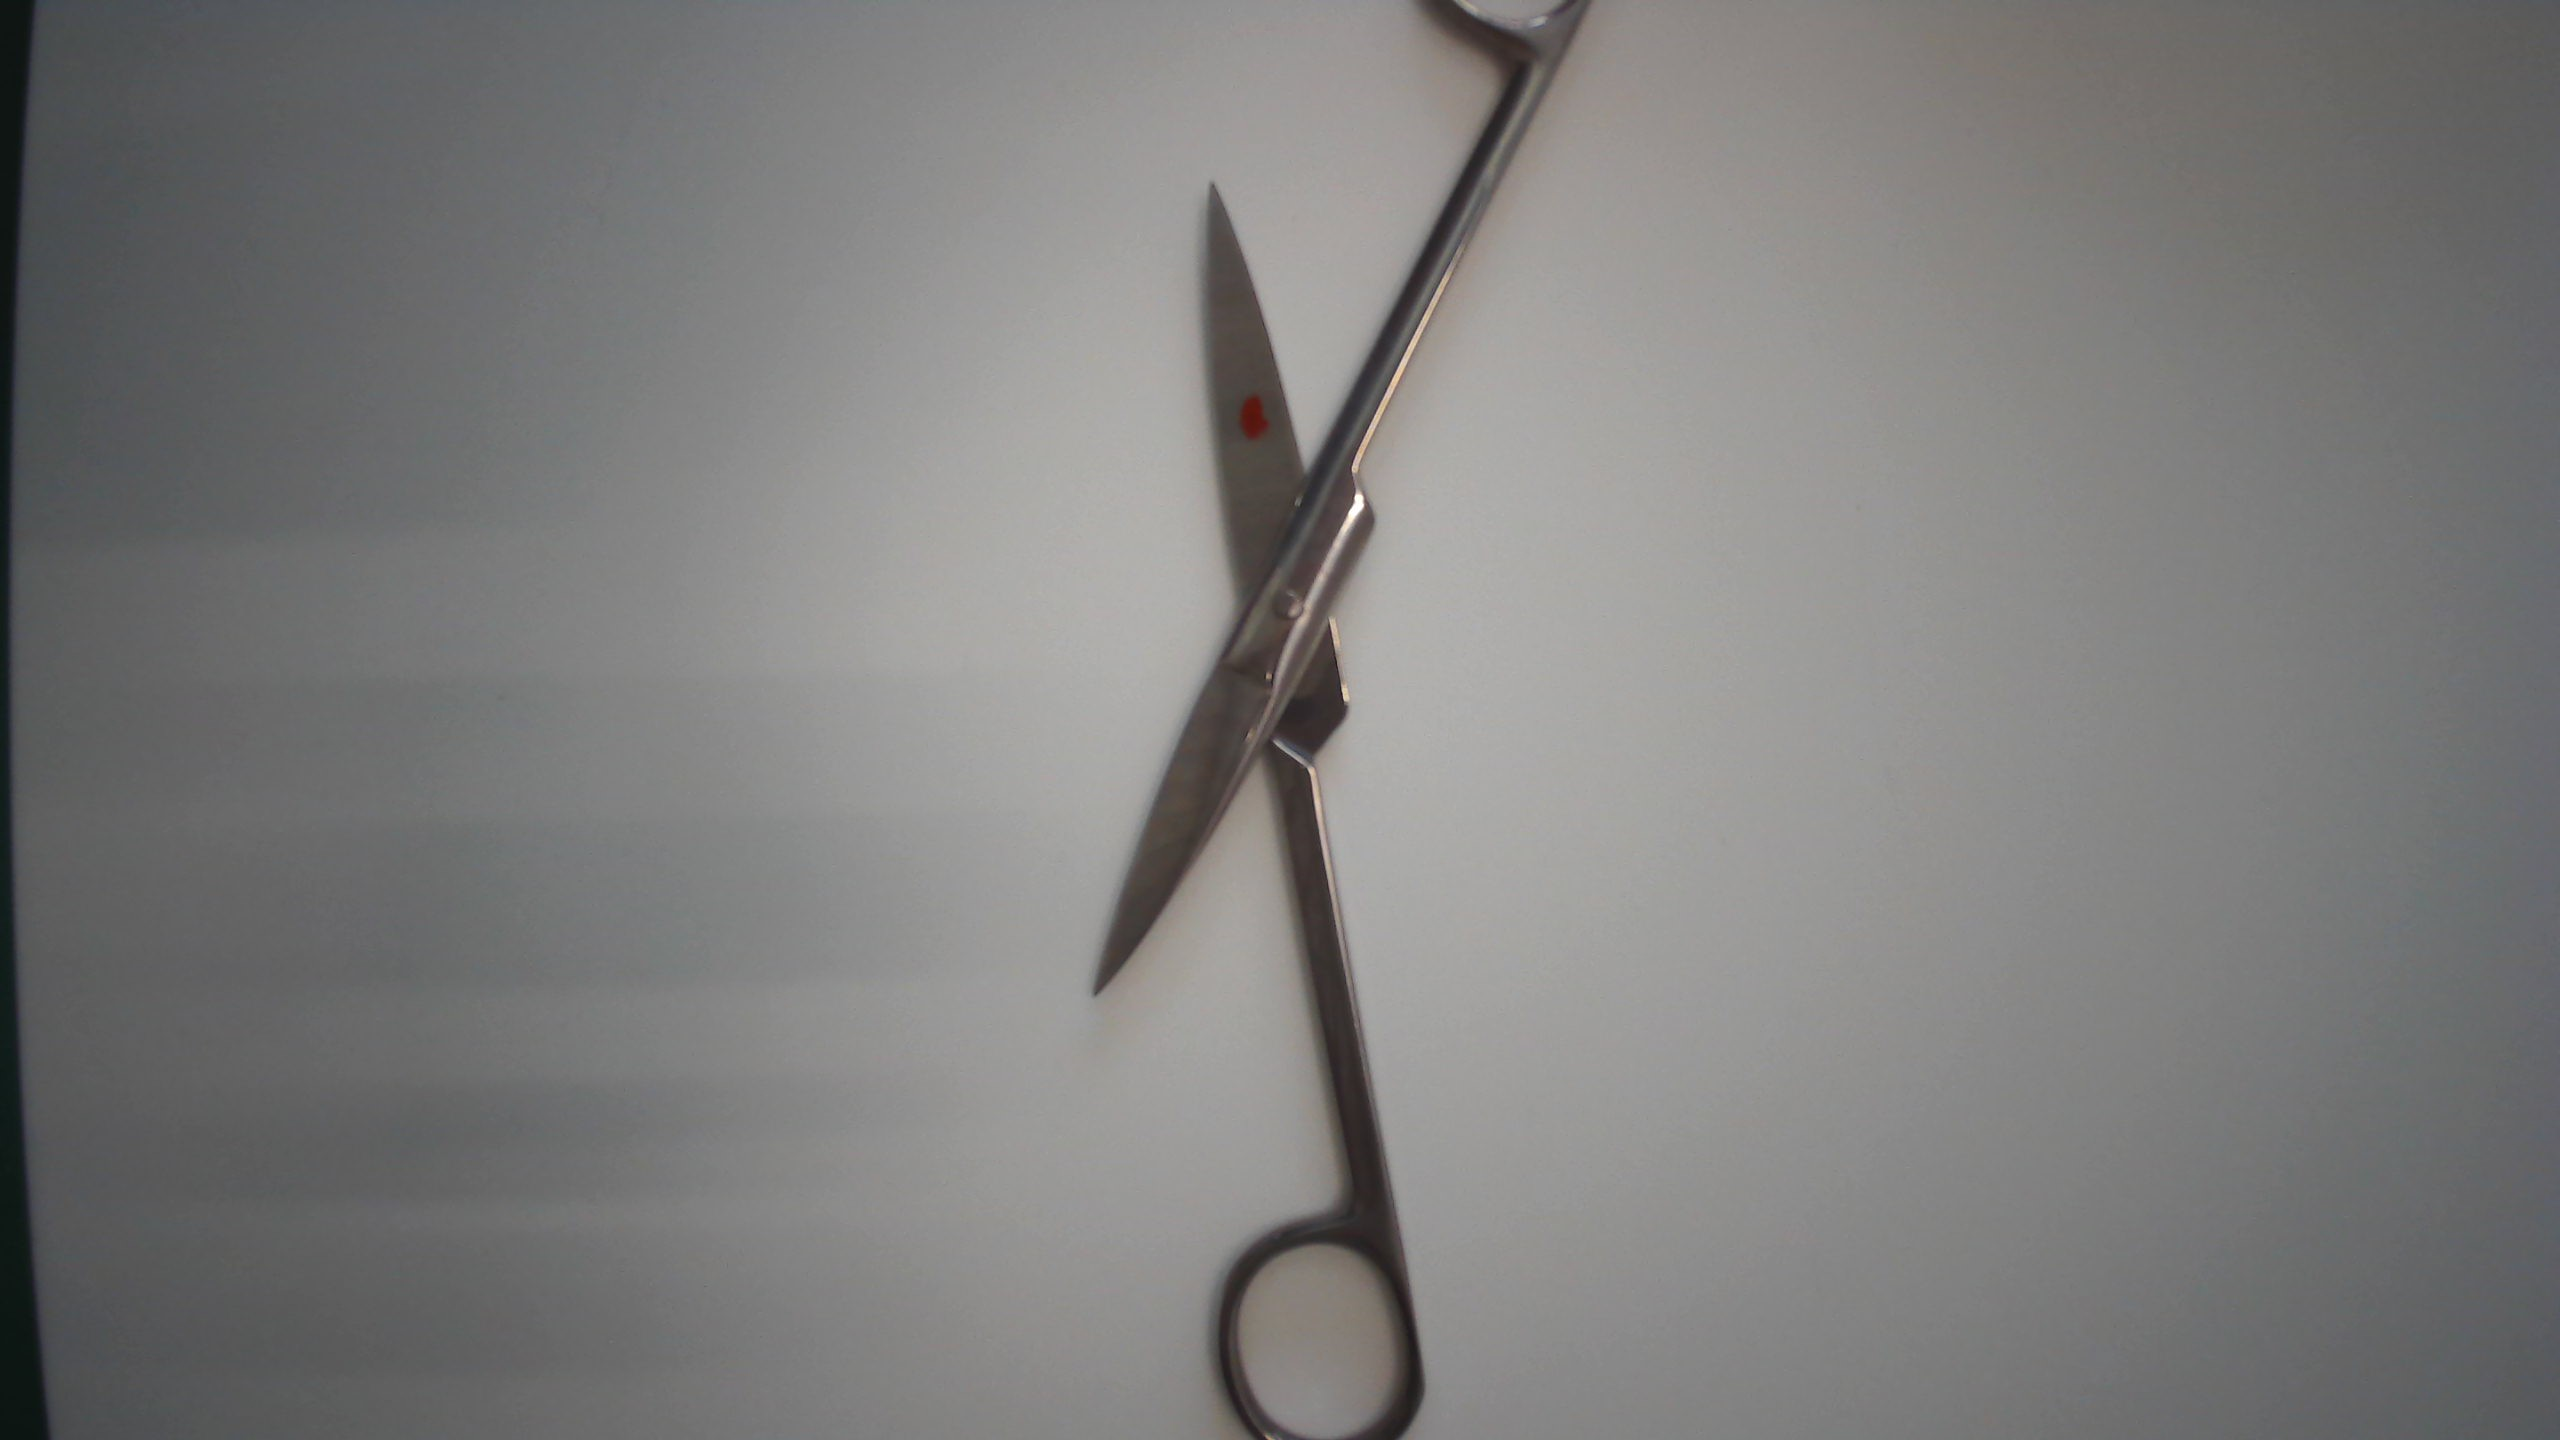Stain: (1234, 387, 1274, 448)
